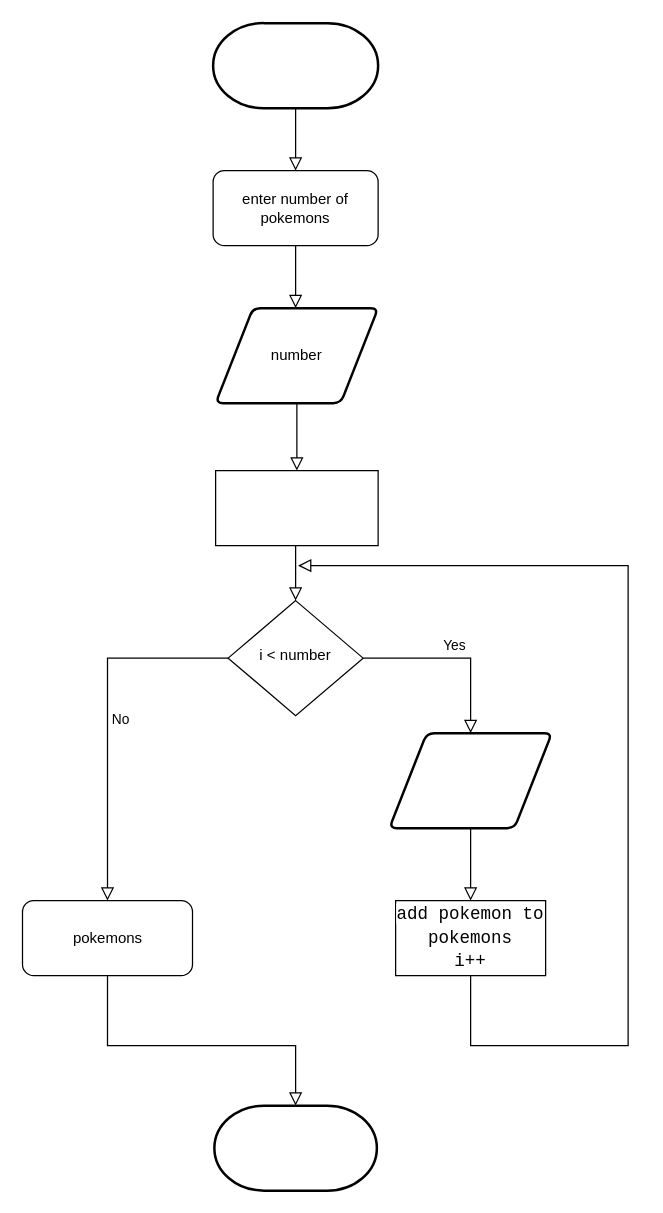
The diagram is 663 pixels wide and 1213 high, and some of its shapes have lost their labels. Each missing label, with the centre of its shape:
"i = 0 pokemons = []" belongs at pixel 296 507.
"name color" belongs at pixel 470 780.
